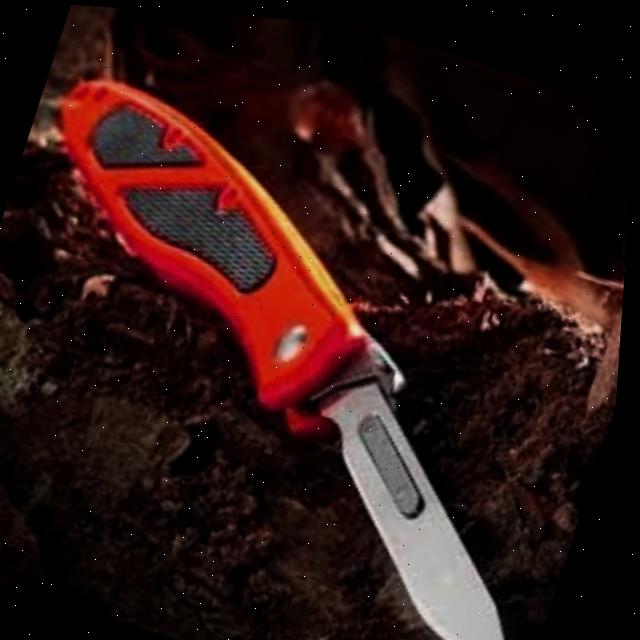Knife: (0, 58, 637, 640)
